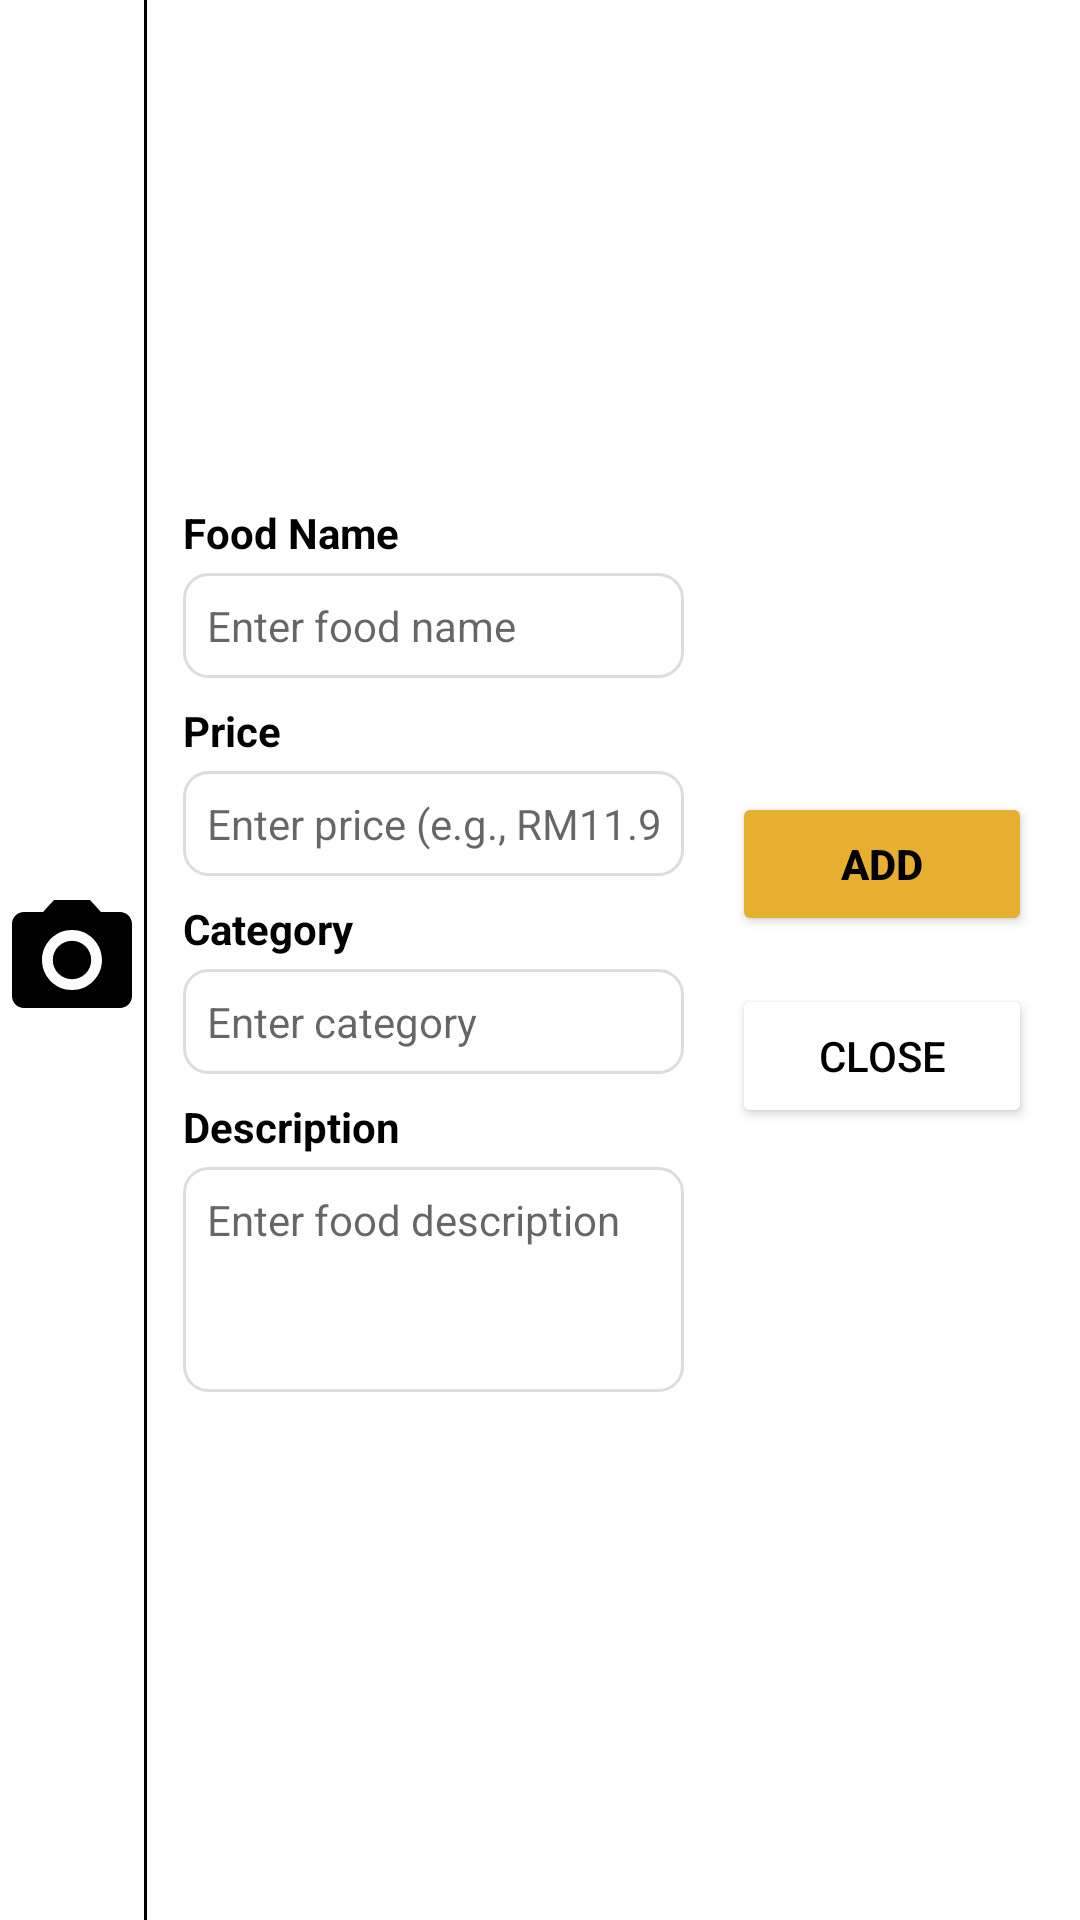

Named icons in this screenshot (1080×1920) and their centers, (x=x, y=y):
Upload food image: (x=72, y=954)
